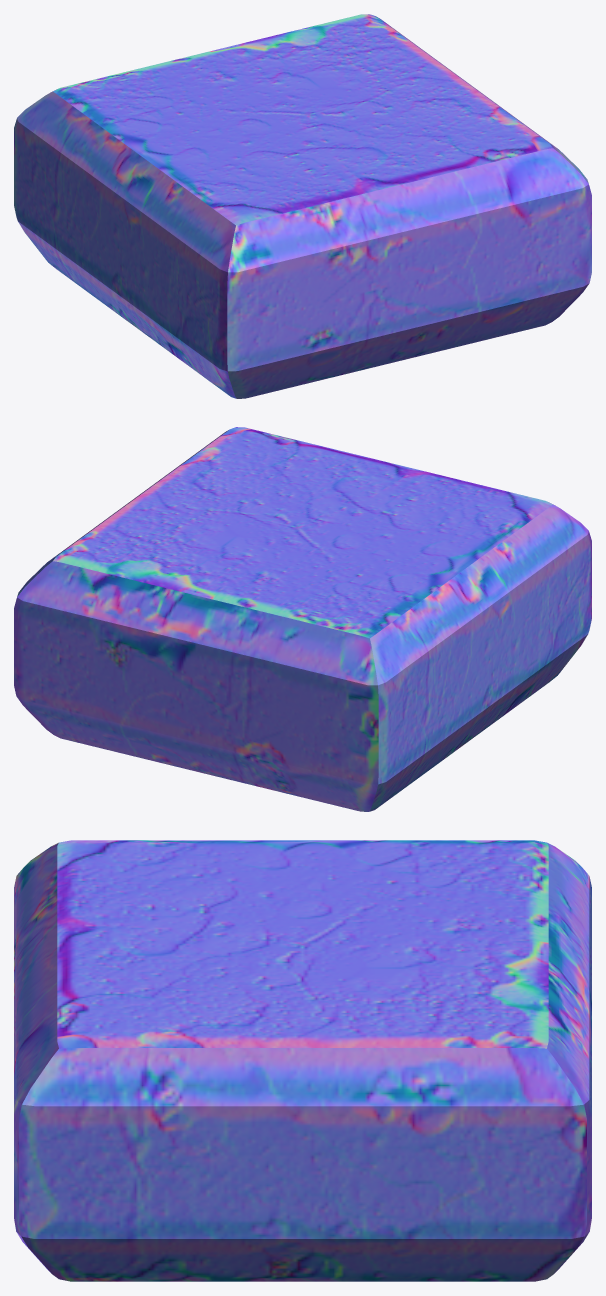
The model's file is Dungeon_PillarJunction.fbx.
3 renders of one model, top to bottom at view 1: azimuth 30°, elevation 25°; view 2: azimuth 150°, elevation 25°; view 3: azimuth 270°, elevation 25°, orthographic. The views are drawn at different scales.
Parts seen in each view (by area): view 1: MeshHP; view 2: MeshHP; view 3: MeshHP.
Boxes of the visible parts, x1,y1,x2,y2 form: MeshHP: [14, 14, 591, 398]; MeshHP: [14, 427, 591, 811]; MeshHP: [14, 840, 591, 1281].
Size of the model in its own units: 1.37 by 0.6396 by 1.39.
Materials: 1 (1 with a texture image).
